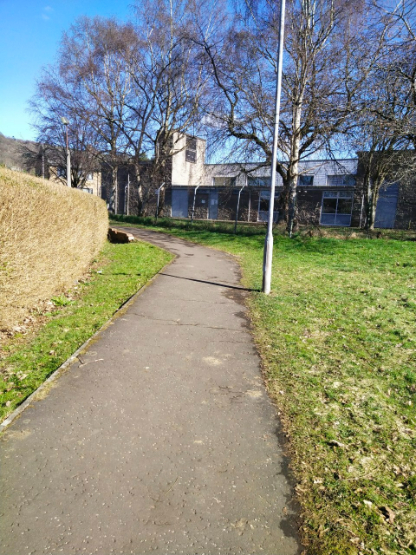tree: (202, 0, 342, 208), (343, 0, 416, 231), (116, 18, 201, 213), (66, 6, 130, 198)
